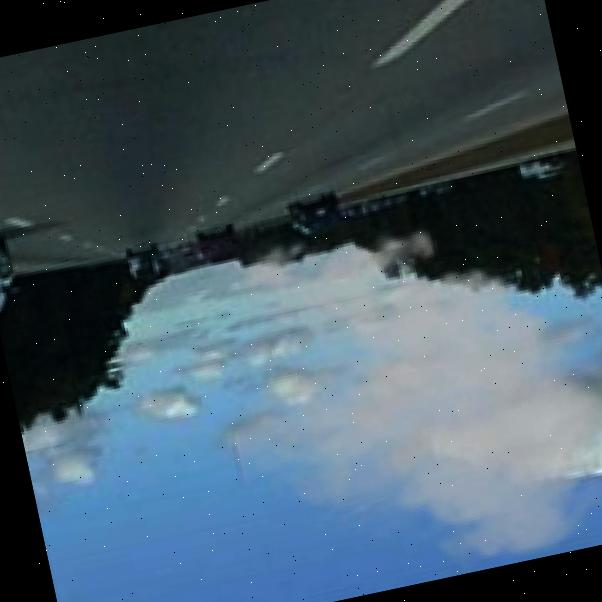smoke: (190, 169, 602, 602)
